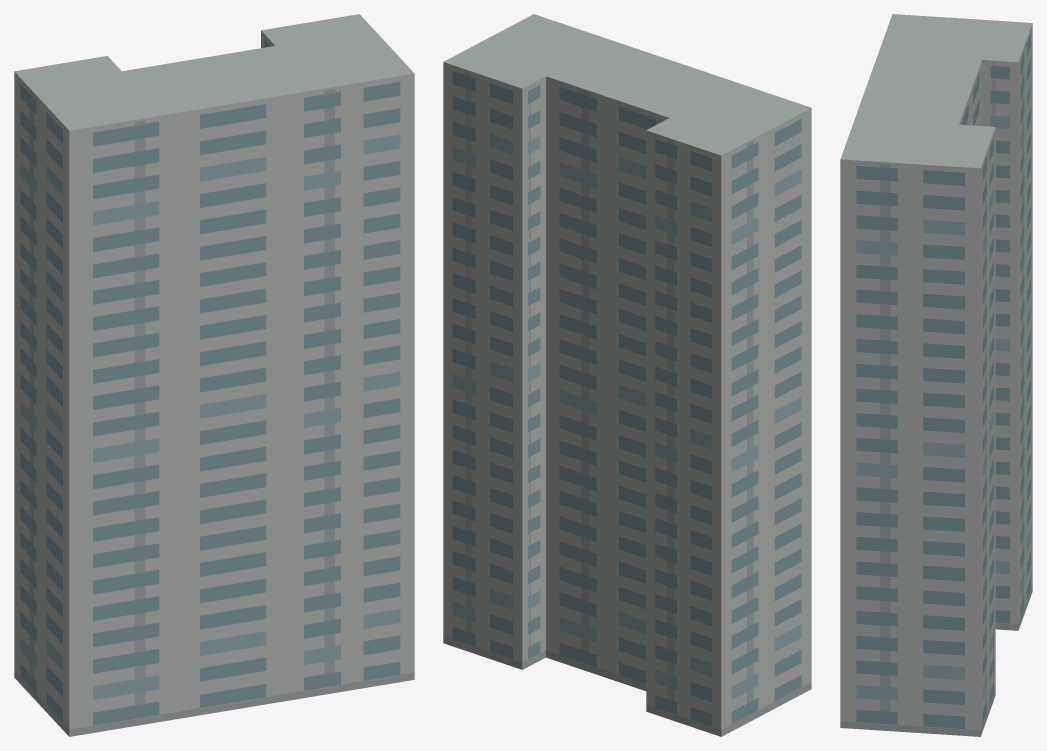
Rendered from residential-af51266a-821d-4417-a2e7-b66d773bac78.glb.
3 views of the same model, side by side, from view 1: azimuth 30°, elevation 25°; view 2: azimuth 150°, elevation 25°; view 3: azimuth 270°, elevation 25° (orthographic). The views are drawn at different scales.
Parts seen in each view (by area): view 1: residential-af51266a-821d-4417-a2e7-b66d773bac78.tmp; view 2: residential-af51266a-821d-4417-a2e7-b66d773bac78.tmp; view 3: residential-af51266a-821d-4417-a2e7-b66d773bac78.tmp.
Boxes of the visible parts, x1,y1,x2,y2 form: residential-af51266a-821d-4417-a2e7-b66d773bac78.tmp: (14,14,414,736); residential-af51266a-821d-4417-a2e7-b66d773bac78.tmp: (443,14,811,736); residential-af51266a-821d-4417-a2e7-b66d773bac78.tmp: (840,14,1032,736).
Bounding box in the file's own units: 40.86 × 70.15 × 21.51.
